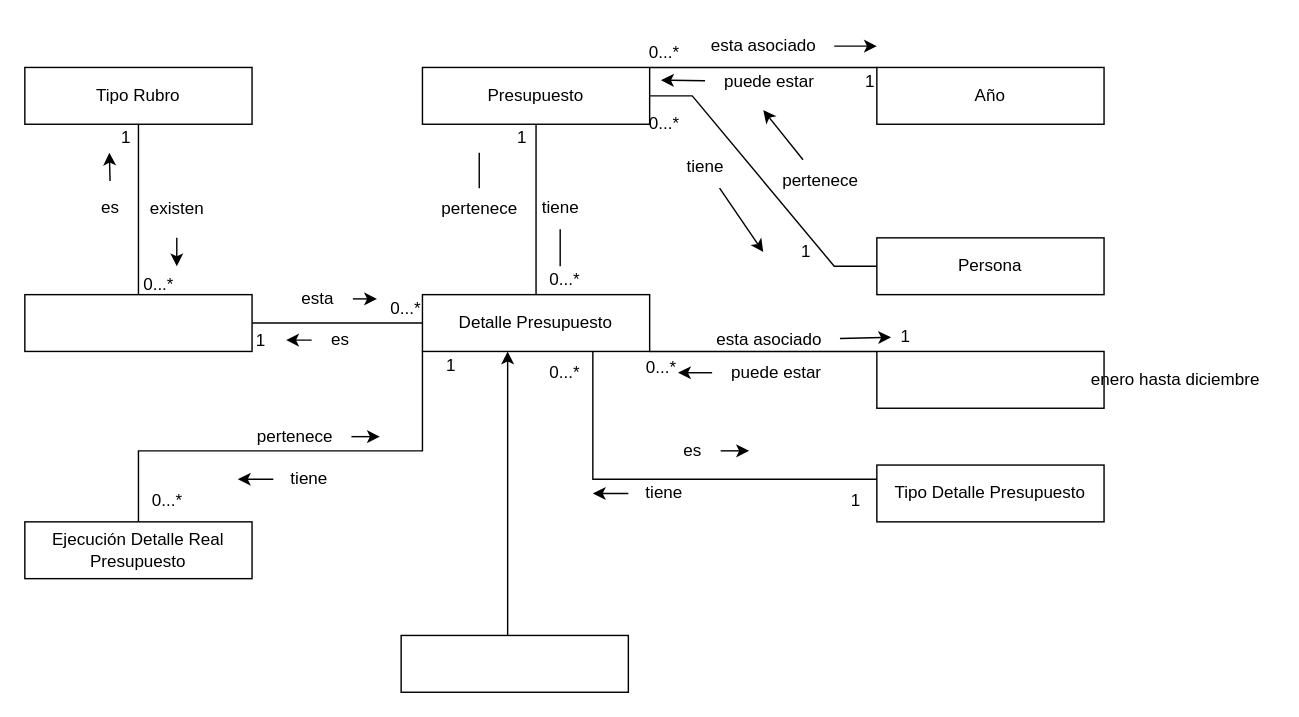
Image size: 1299x717. Some labels were removed from this diagram. Here are the shapes that lost their labels. From the top down, the box of each, then its label:
(23, 293, 252, 351): Rubro
(875, 350, 1104, 408): Mes
(400, 634, 628, 692): Trazabilidad
